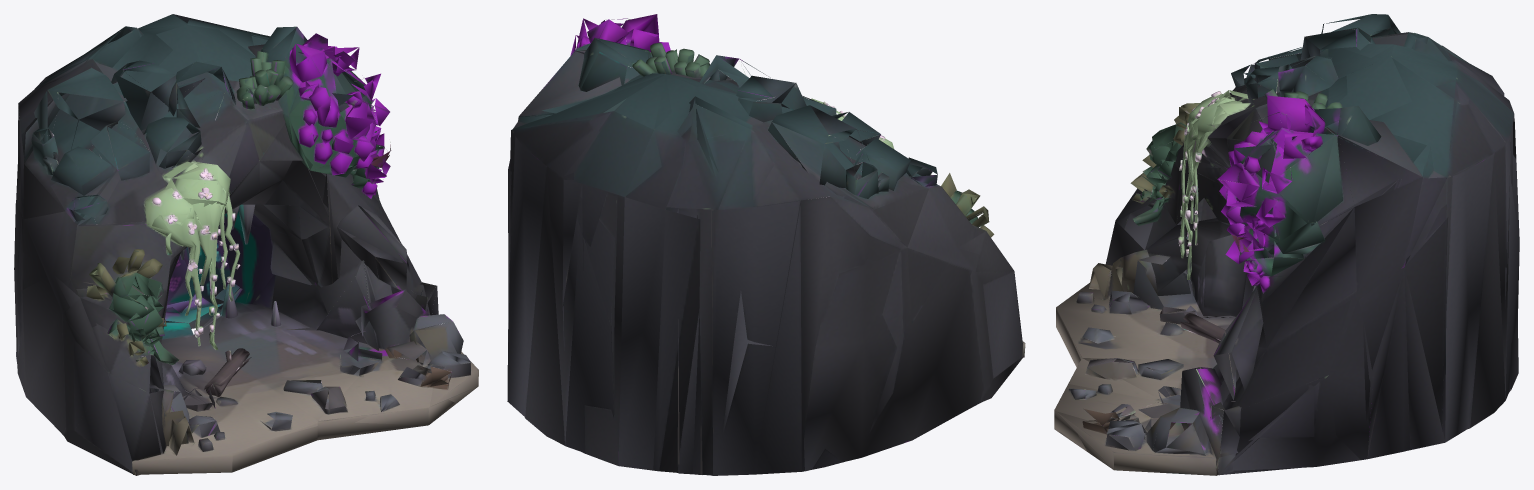
File: Magical_Cave.fbx
3 views of the same model, side by side, from view 1: azimuth 30°, elevation 25°; view 2: azimuth 150°, elevation 25°; view 3: azimuth 270°, elevation 25° (orthographic). The views are drawn at different scales.
Parts seen in each view (by area): view 1: Mesh_0; view 2: Mesh_0; view 3: Mesh_0.
Part boxes in pixels (<box>): Mesh_0: <box>14,14,478,475</box>; Mesh_0: <box>507,14,1025,475</box>; Mesh_0: <box>1054,14,1519,475</box>.
Bounding box in the file's own units: 96.39 × 74.17 × 95.02.
1 material, 1 textured.
